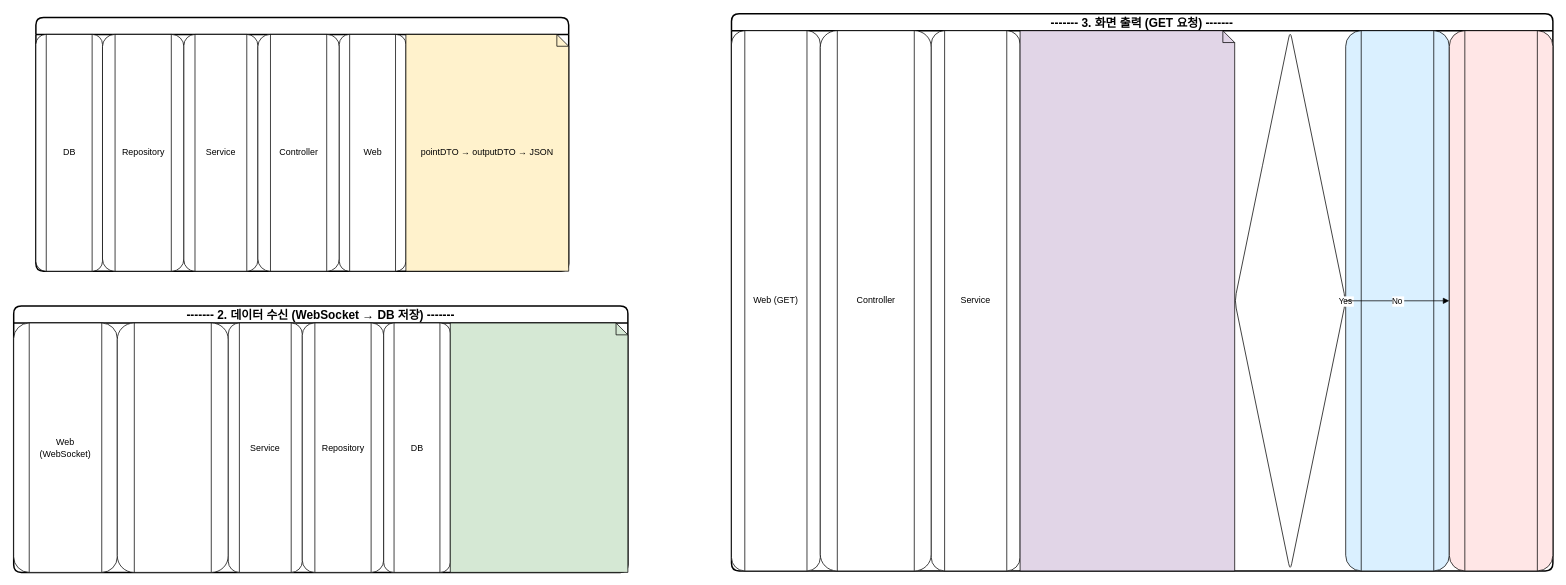
Image size: 1566x585. Some labels were removed from this diagram. Here are the shapes that lost their labels. From the top down, the box of each, then its label:
(35, 16, 569, 272): ------- 1. 데이터 송신 (DB → Web) -------
(1019, 30, 1235, 571): InputDTO → String → JSON
(1234, 30, 1346, 571): row != null ?
(1345, 30, 1449, 571): return row
(1449, 30, 1553, 571): return null
(117, 322, 228, 572): WebSocket Handler
(450, 322, 628, 572): String(JSON) → inputDTO → Entity → DB
